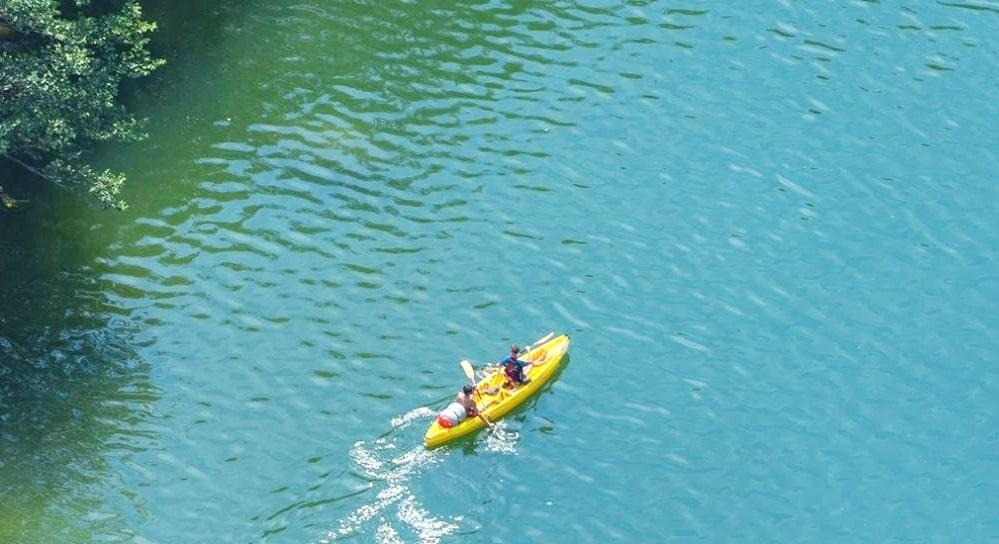kayaker: (421, 330, 572, 452)
